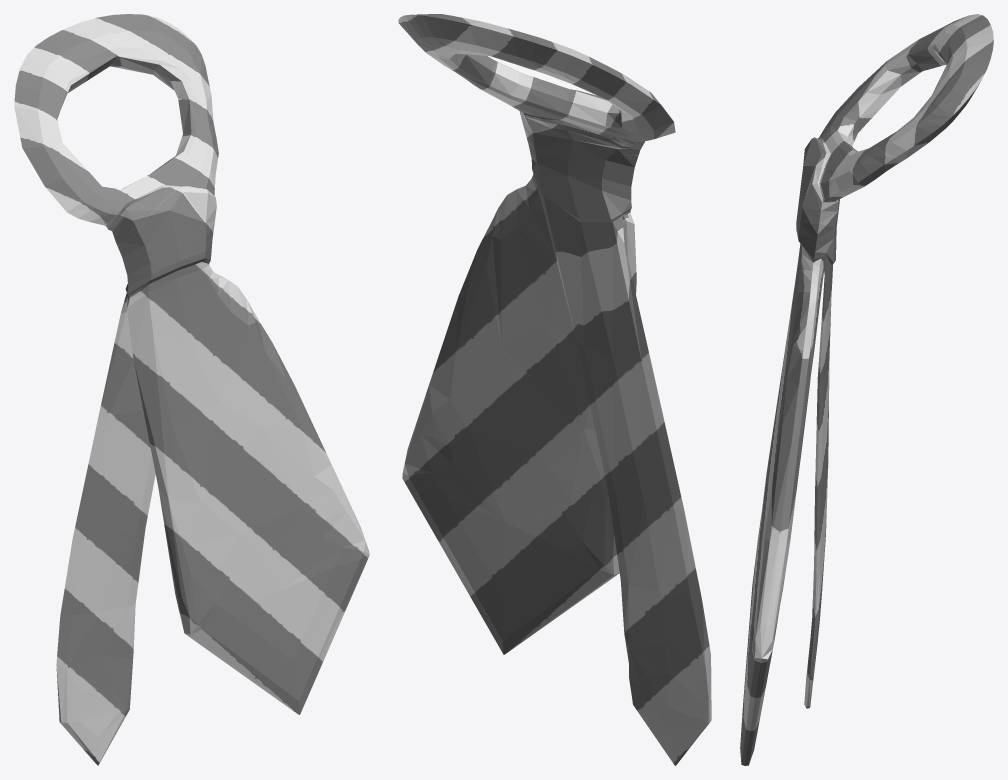
Rendered from Mafia Tie.dae.
3 views of the same model, side by side, from view 1: azimuth 30°, elevation 25°; view 2: azimuth 150°, elevation 25°; view 3: azimuth 270°, elevation 25° (orthographic). The views are drawn at different scales.
Parts seen in each view (by area): view 1: mafiatie_mo; view 2: mafiatie_mo; view 3: mafiatie_mo.
Boxes of the visible parts, bbox=[...] form: mafiatie_mo: bbox=[14, 14, 369, 765]; mafiatie_mo: bbox=[398, 14, 711, 765]; mafiatie_mo: bbox=[740, 14, 993, 765].
Size of the model in its own units: 28.01 by 20.07 by 62.19.
Materials: 1 (1 with a texture image).
